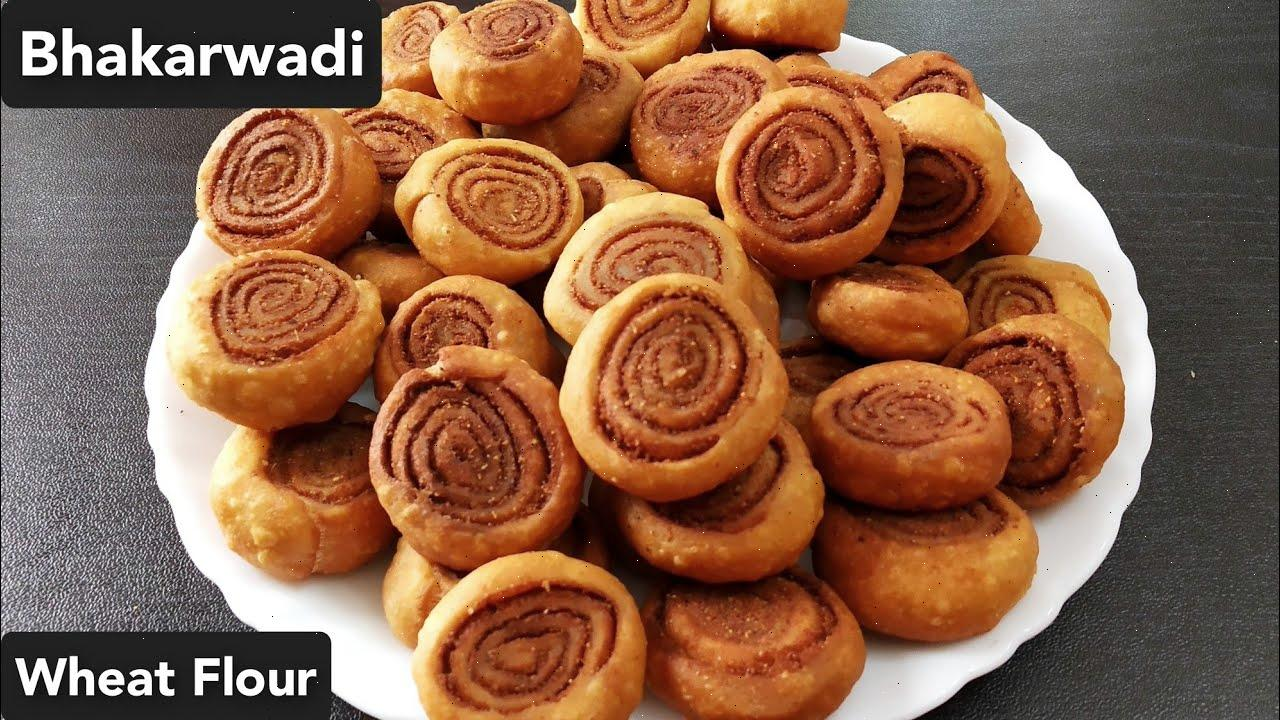bhakarwadi: (171, 106, 1130, 629)
